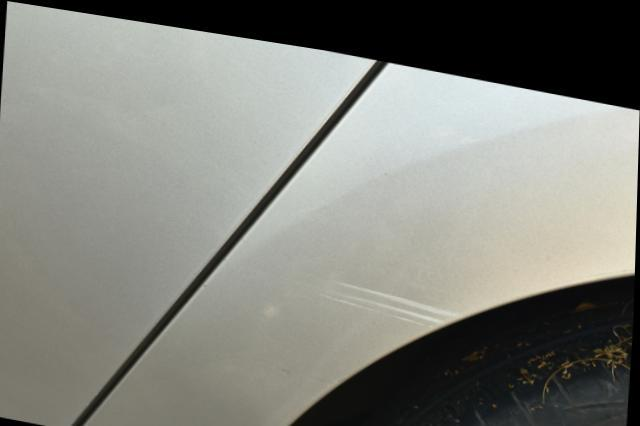scratch: (311, 267, 467, 316)
